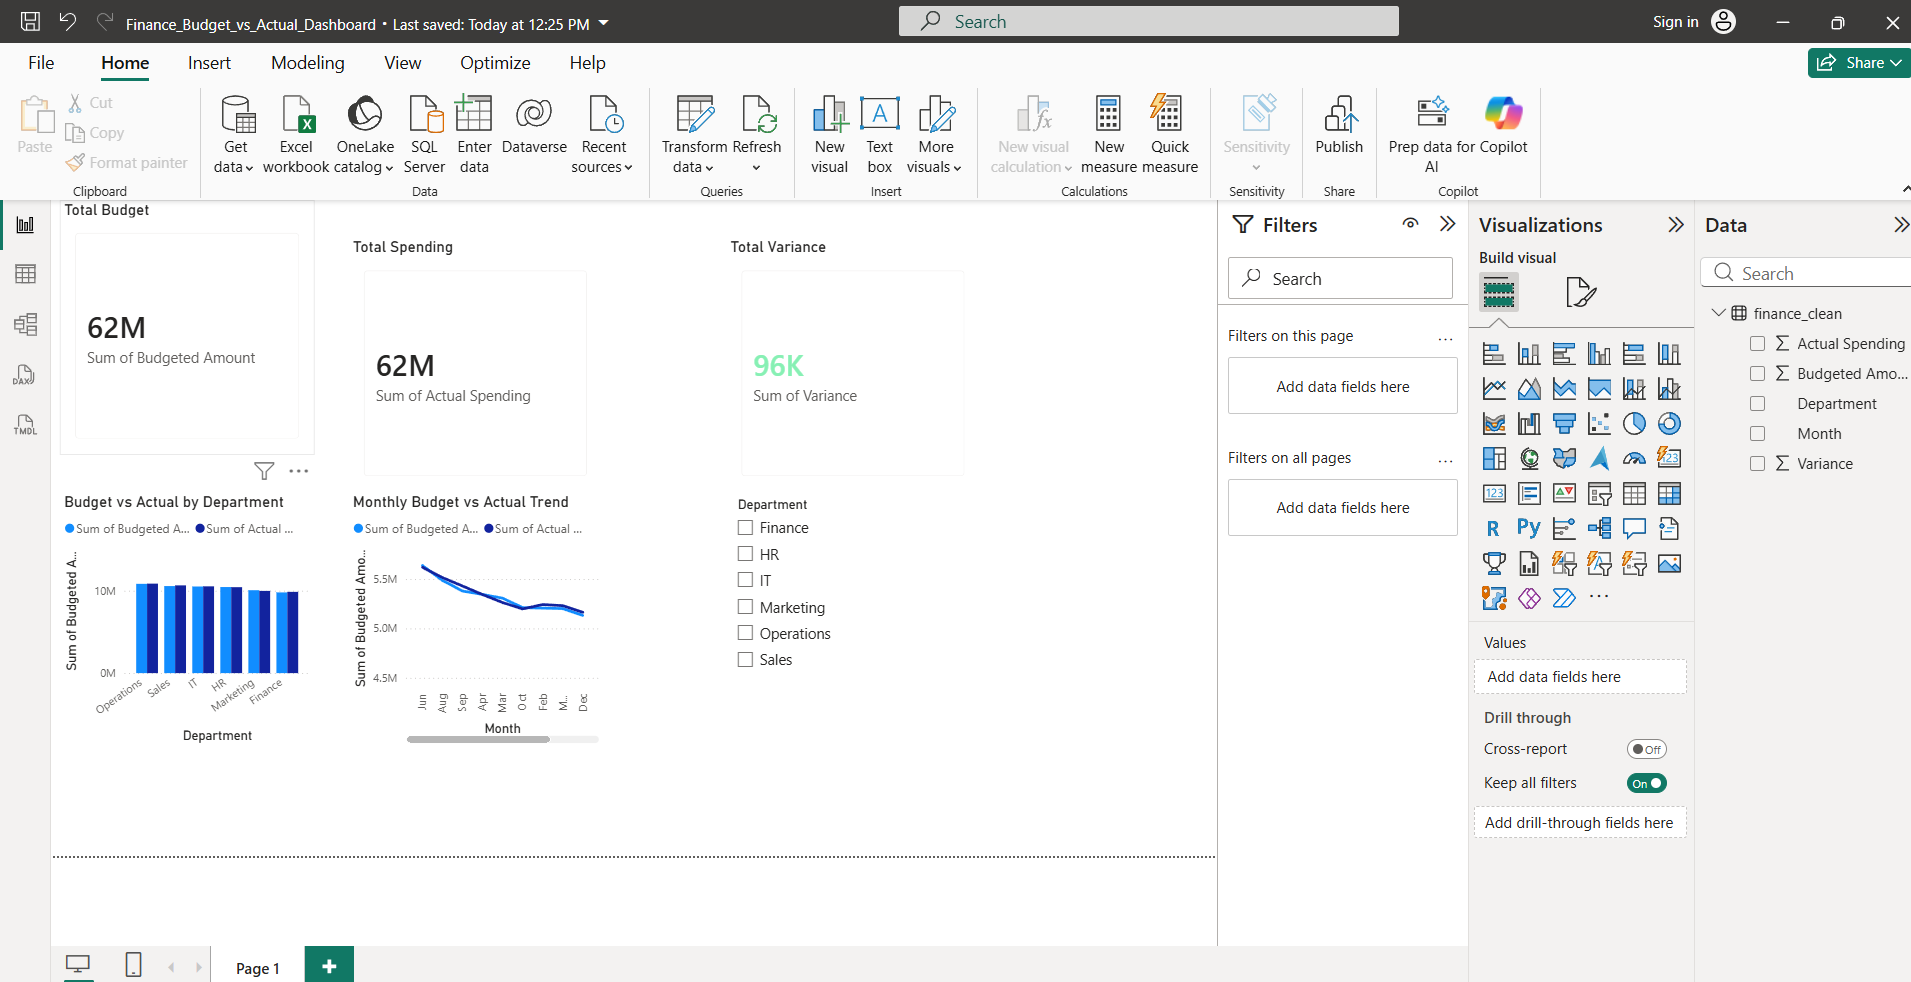

This screenshot's page, from the dashboard's own definition file:
{"tool":"powerbi","page":{"name":"Page 1","canvas":[1280,720],"ordinal":0},"visuals":[{"type":"cardVisual","title":"Total Budget","fields":{"Data":["Sum(finance_clean.Budgeted Amount)"]},"box":[10,0,280,280],"z":0},{"type":"cardVisual","title":"Total Spending","fields":{"Data":["Sum(finance_clean.Actual Spending)"]},"box":[326.6,41.2,279.9,279.9],"z":1},{"type":"cardVisual","title":"Total Variance","fields":{"Data":["Sum(finance_clean.Variance)"]},"box":[741,41.2,279.9,279.9],"z":2},{"type":"clusteredColumnChart","title":"Budget vs Actual by Department","fields":{"Category":["finance_clean.Department"],"Y":["Sum(finance_clean.Budgeted Amount)","Sum(finance_clean.Actual Spending)"]},"box":[10,321,280,280],"z":3},{"type":"lineChart","title":"Monthly Budget vs Actual Trend","fields":{"Category":["finance_clean.Month"],"Y":["Sum(finance_clean.Budgeted Amount)","Sum(finance_clean.Actual Spending)"]},"box":[327,321,280,280],"z":4},{"type":"slicer","fields":{"Values":["finance_clean.Department"]},"box":[741,321,280,280],"z":5}]}

Visuals, with their boxes on the page's 1280x720 design canvas (x1, y1, x2, y2). These are canvas units, not pixel positions in the 1911x982 screenshot, which may show the page scaled, cropped or inside an application window:
"Total Budget" cardVisual: <bbox>10, 0, 290, 280</bbox>
"Total Spending" cardVisual: <bbox>327, 41, 606, 321</bbox>
"Total Variance" cardVisual: <bbox>741, 41, 1021, 321</bbox>
"Budget vs Actual by Department" clusteredColumnChart: <bbox>10, 321, 290, 601</bbox>
"Monthly Budget vs Actual Trend" lineChart: <bbox>327, 321, 607, 601</bbox>
slicer - finance_clean.Department: <bbox>741, 321, 1021, 601</bbox>
